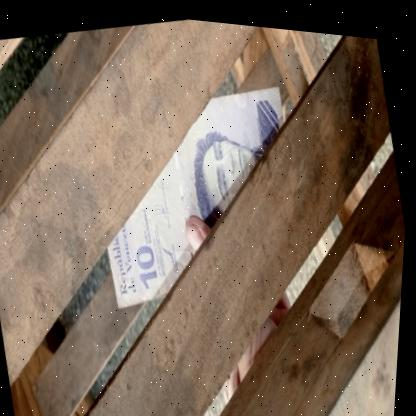ten-front-vef: (78, 64, 321, 318)
